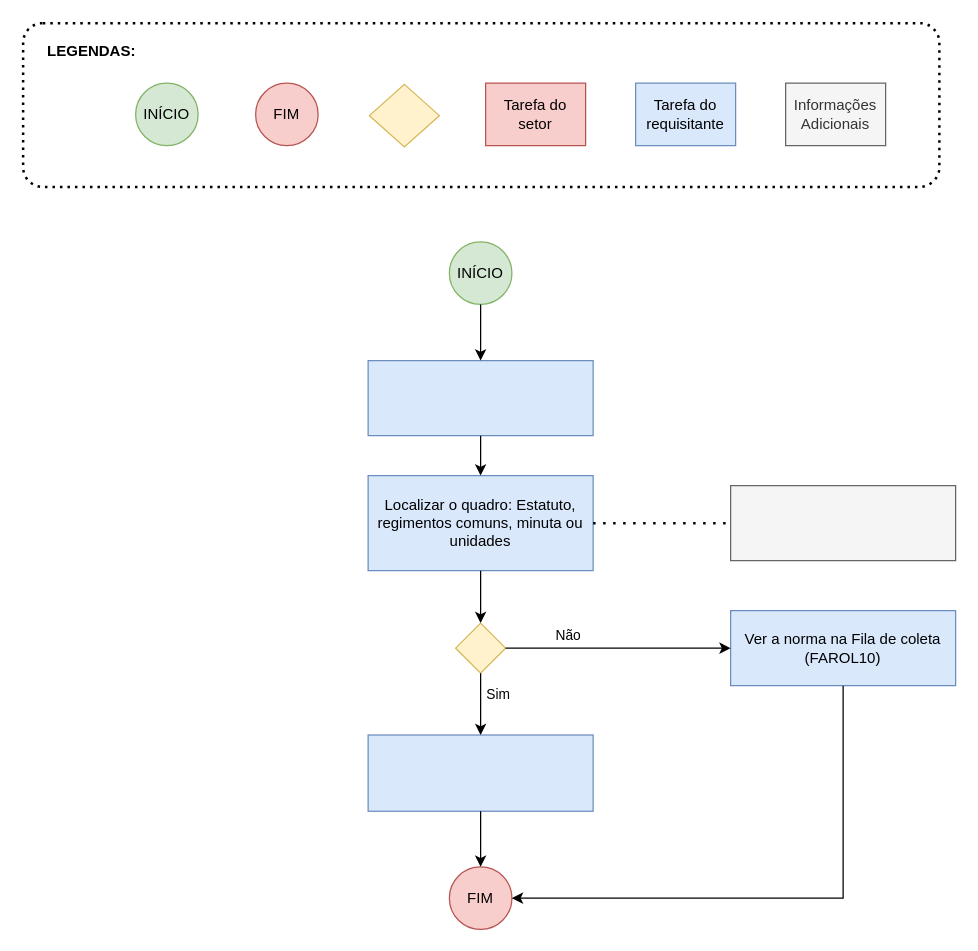
Some shapes in this 978 by 951 pixel diagram are drawn without their labels. The shapes that lost their labels are listed below. From the top down, each one's box as (x1, y1, x2, y2) in pixels, then its label:
(368, 83, 439, 147): SE
(367, 359, 593, 436): Abrir Estatuto e regimentos no menu
(729, 484, 956, 561): Minuta do novo Estatuto (NT): sem força normativa
(454, 622, 506, 673): A norma tem texto?
(367, 734, 593, 811): Abrir o texto integral e ler as anotações (FAROL04)
